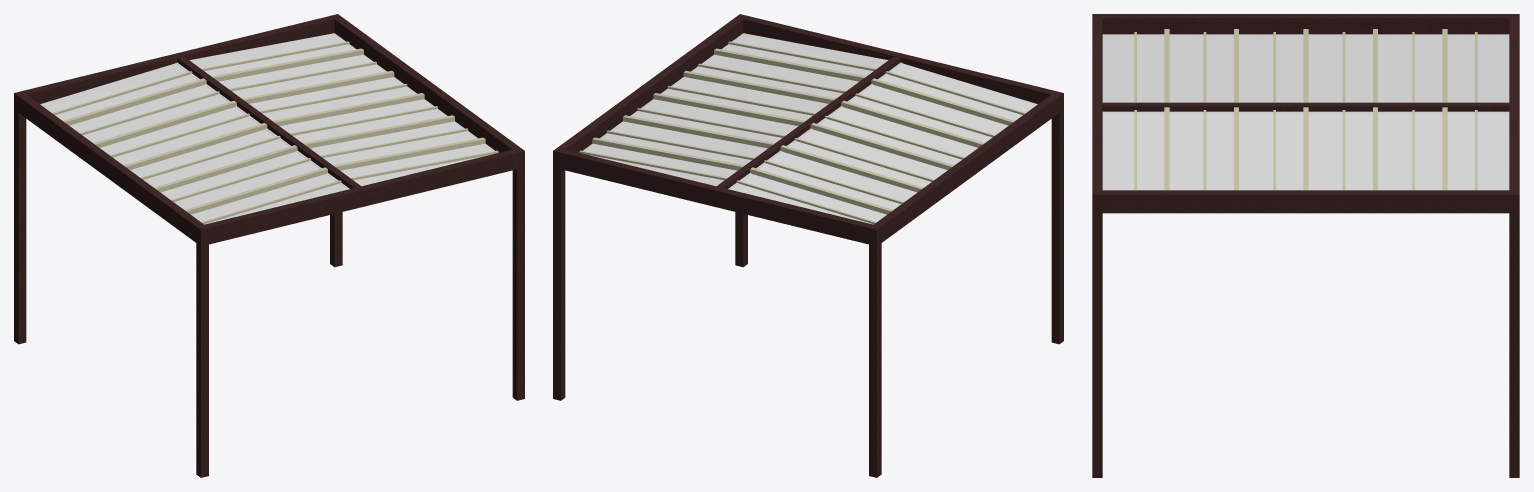
The model's file is hyr-double_h30-w40-l40_rustycopper.fbx.
3 views of the same model, side by side, from view 1: azimuth 30°, elevation 25°; view 2: azimuth 150°, elevation 25°; view 3: azimuth 270°, elevation 25° (orthographic). The views are drawn at different scales.
Parts seen in each view (by area): view 1: hyr-double_h30-w40-l40_rustycopper; view 2: hyr-double_h30-w40-l40_rustycopper; view 3: hyr-double_h30-w40-l40_rustycopper.
Boxes of the visible parts, x1,y1,x2,y2 form: hyr-double_h30-w40-l40_rustycopper: (14,14,524,477); hyr-double_h30-w40-l40_rustycopper: (553,14,1063,477); hyr-double_h30-w40-l40_rustycopper: (1092,14,1519,477).
Size of the model in its own units: 410 by 300 by 410.
3 materials, 2 textured.
